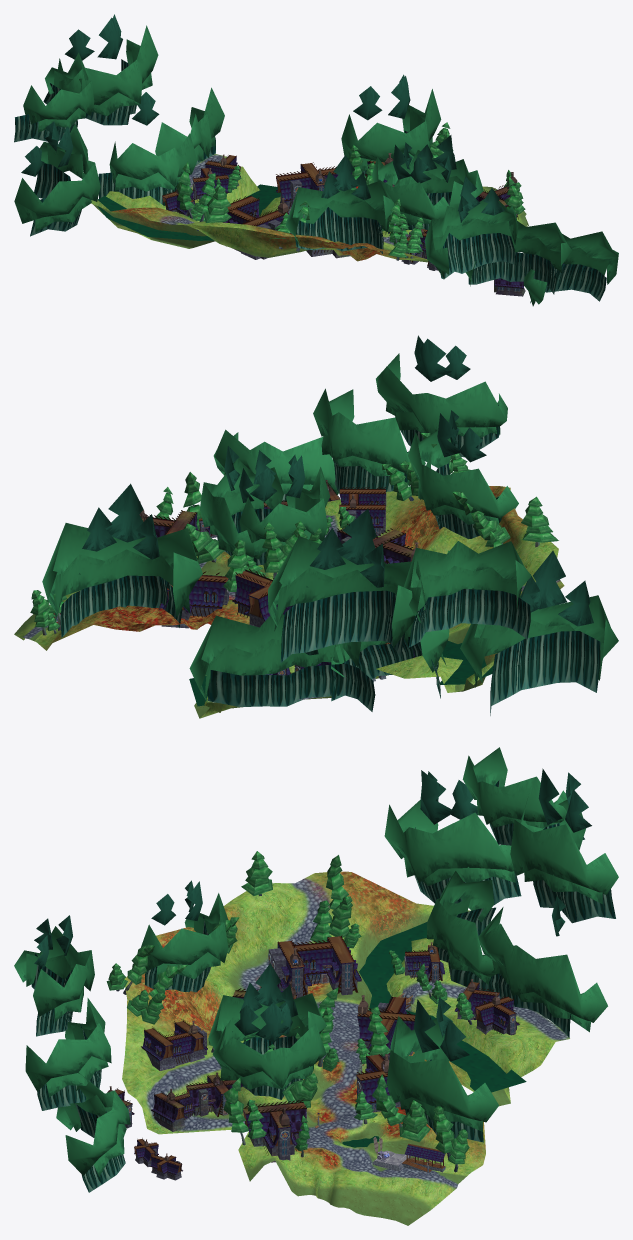
File: Map1-Minth.fbx
The picture shows the model from 3 angles, top to bottom: view 1: azimuth 30°, elevation 25°; view 2: azimuth 150°, elevation 25°; view 3: azimuth 270°, elevation 25°; orthographic projection. The views are drawn at different scales.
Parts seen in each view (by area): view 1: map1.001, treelineleaf.005, treelineleaf.006, treelineleaf, treelineleaf.010, treelineleaf.004, treelineleaf.007, treelineleaf.001, treelineleaf.011, treelineleaf.009, treelineleaf.008, treescape.010 (+15 smaller); view 2: map1.001, treelineleaf, treelineleaf.006, treelineleaf.004, treelineleaf.005, treelineleaf.010, treelineleaf.009, treescape.006, treescape.005, treelineleaf.011, treescape.009, treelineleaf.002 (+23 smaller); view 3: map1.001, treelineleaf.005, treelineleaf, treelineleaf.006, treelineleaf.009, treelineleaf.008, treelineleaf.004, treelineleaf.010, treelineleaf.007, treelineleaf.011, treelineleaf.002, river (+28 smaller).
Boxes of the visible parts, left/top/right/bottom form: map1.001: left=91, top=154, right=528, bottom=262; treelineleaf.005: left=14, top=121, right=100, bottom=232; treelineleaf.006: left=58, top=14, right=158, bottom=115; treelineleaf: left=341, top=74, right=441, bottom=171; treelineleaf.010: left=285, top=155, right=394, bottom=244; treelineleaf.004: left=424, top=176, right=517, bottom=278; treelineleaf.007: left=109, top=133, right=197, bottom=191; treelineleaf.001: left=371, top=142, right=449, bottom=224; treelineleaf.011: left=23, top=52, right=94, bottom=132; treelineleaf.009: left=132, top=87, right=224, bottom=161; treelineleaf.008: left=394, top=135, right=483, bottom=208; treescape.010: left=295, top=207, right=383, bottom=253; map1.001: left=14, top=486, right=564, bottom=718; treelineleaf: left=42, top=483, right=202, bottom=621; treelineleaf.006: left=268, top=509, right=425, bottom=647; treelineleaf.004: left=376, top=335, right=507, bottom=437; treelineleaf.005: left=460, top=550, right=618, bottom=687; treelineleaf.010: left=408, top=410, right=518, bottom=524; treelineleaf.009: left=189, top=610, right=361, bottom=705; treescape.006: left=280, top=590, right=404, bottom=662; treescape.005: left=490, top=631, right=600, bottom=715; treelineleaf.011: left=404, top=541, right=531, bottom=623; treescape.009: left=207, top=663, right=375, bottom=711; treelineleaf.002: left=313, top=388, right=425, bottom=486; map1.001: left=122, top=871, right=569, bottom=1225; treelineleaf.005: left=384, top=770, right=515, bottom=885; treelineleaf: left=386, top=997, right=498, bottom=1131; treelineleaf.006: left=510, top=768, right=618, bottom=903; treelineleaf.009: left=478, top=896, right=607, bottom=1032; treelineleaf.008: left=212, top=1002, right=326, bottom=1089; treelineleaf.004: left=14, top=915, right=94, bottom=1021; treelineleaf.010: left=141, top=880, right=228, bottom=980; treelineleaf.007: left=426, top=871, right=497, bottom=984; treelineleaf.011: left=462, top=747, right=567, bottom=828; treelineleaf.002: left=25, top=998, right=111, bottom=1097; river: left=359, top=922, right=526, bottom=1092.
Bounding box in the file's own units: 67755 × 30547 × 63198.
